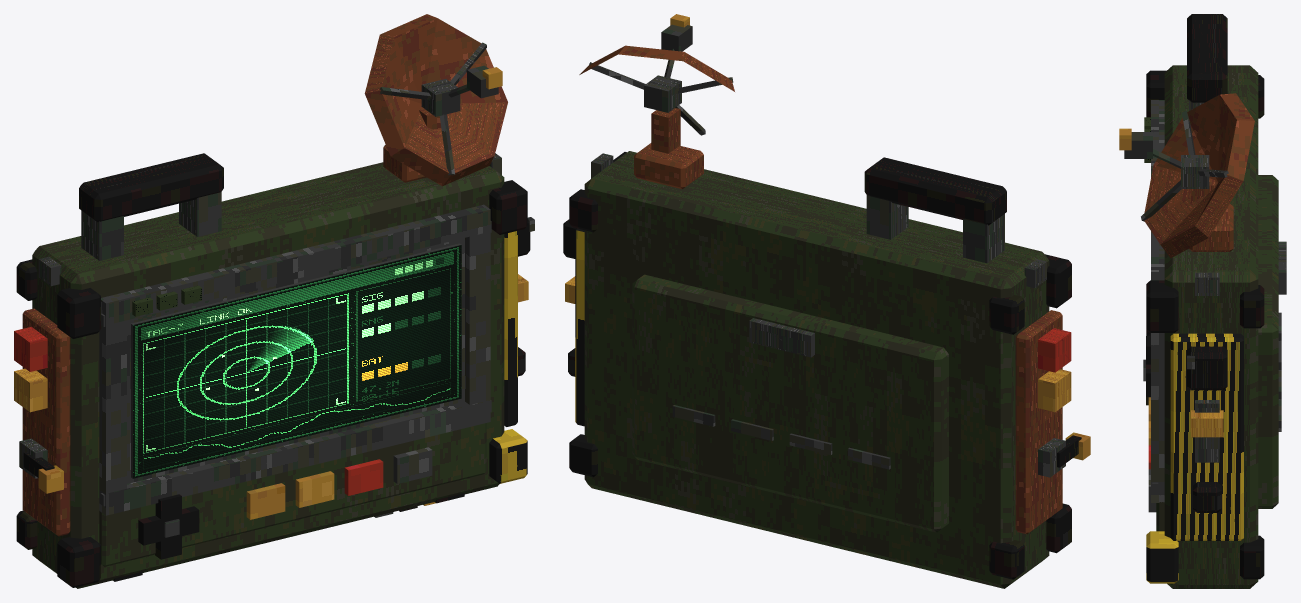
File: FieldTablet.glb
3 renders of one model, left to right at view 1: azimuth 30°, elevation 25°; view 2: azimuth 150°, elevation 25°; view 3: azimuth 270°, elevation 25°, orthographic. The views are drawn at different scales.
Parts seen in each view (by area): view 1: FieldTablet_Body, FieldTablet_Screen; view 2: FieldTablet_Body; view 3: FieldTablet_Body.
Part boxes in pixels (x1,y1,x2,y2): FieldTablet_Body: (14,14,534,588); FieldTablet_Screen: (131,243,461,478); FieldTablet_Body: (563,14,1090,588); FieldTablet_Body: (1119,14,1286,588).
Bounding box in the file's own units: 0.2885 × 0.2484 × 0.0822.
Materials: 2 (2 with a texture image).
